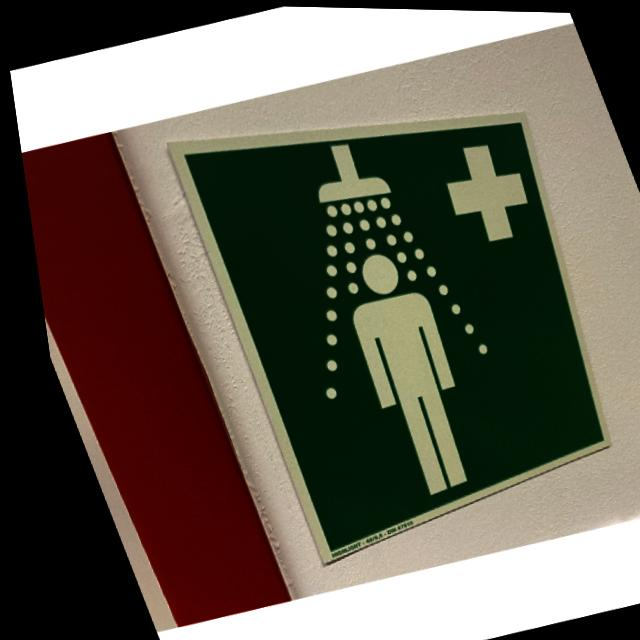shower: (145, 54, 640, 569)
